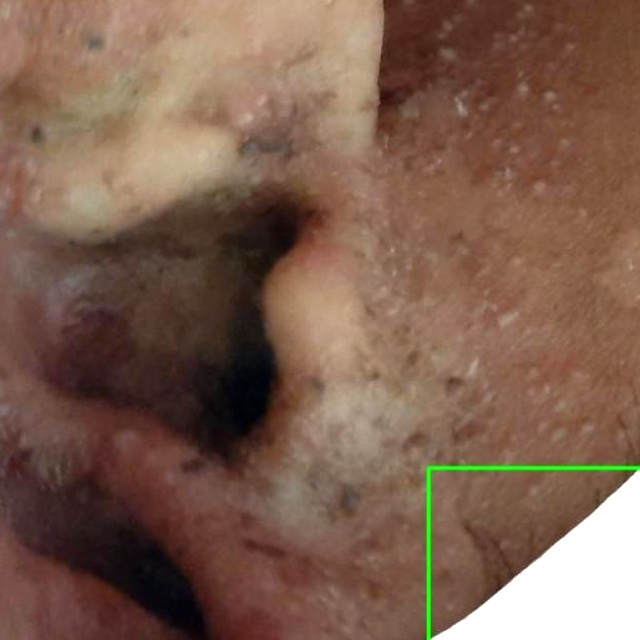Contact Dermatitis: (428, 468, 639, 639)
